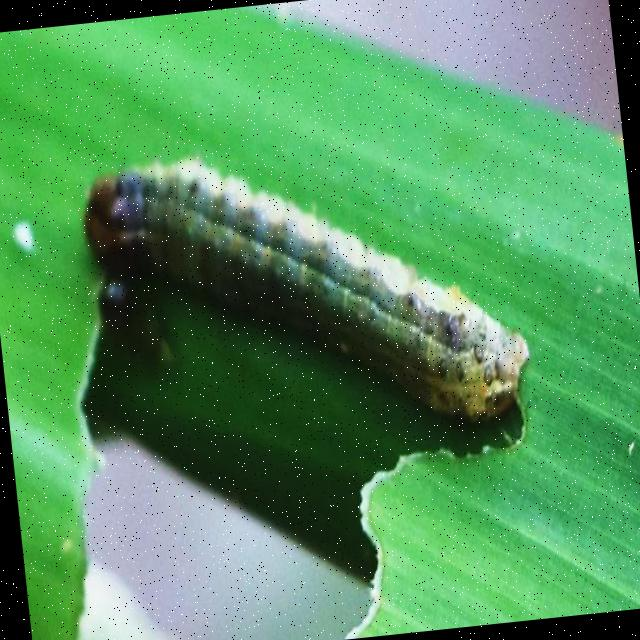worm: (79, 121, 539, 464)
